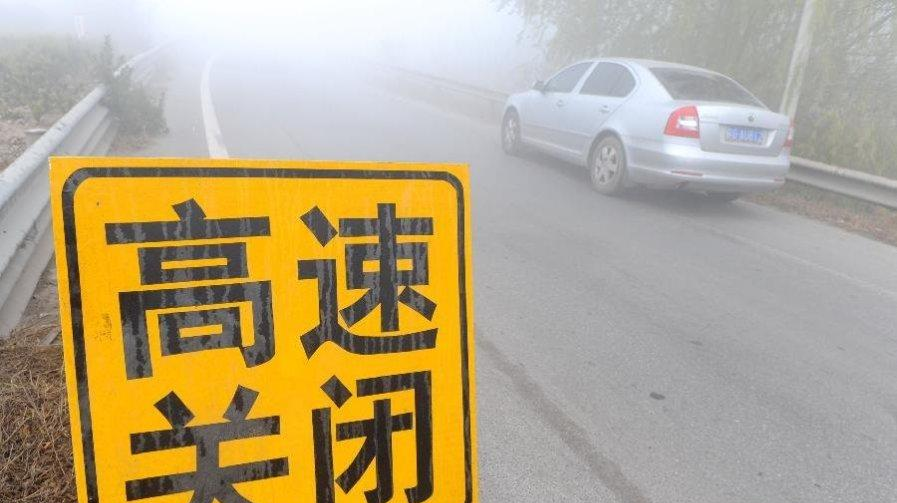car: (495, 56, 793, 201)
